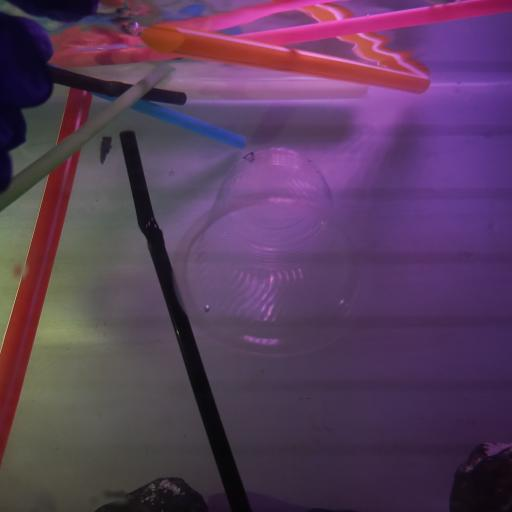glove: (0, 9, 57, 202)
plastic_cup: (170, 144, 375, 359)
plastic_straw: (119, 127, 252, 512), (0, 87, 92, 471), (52, 2, 510, 67), (2, 62, 173, 209), (140, 22, 429, 96), (94, 90, 248, 152), (50, 65, 187, 106)
